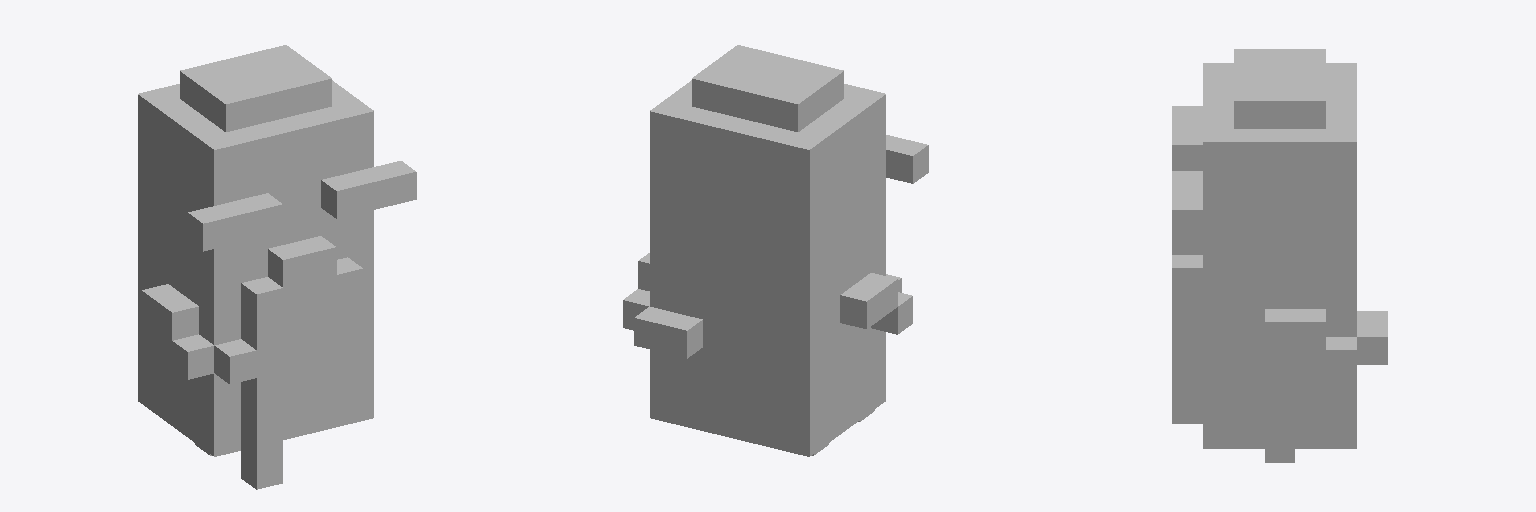
Rendered from chr_old.obj.
3 views of the same model, side by side, from view 1: azimuth 30°, elevation 25°; view 2: azimuth 150°, elevation 25°; view 3: azimuth 270°, elevation 25° (orthographic).
Visible parts, largest first — view 1: chr_old; view 2: chr_old; view 3: chr_old.
Boxes of the visible parts, box(x1,y1,x2,y2) form: chr_old: box(138, 45, 416, 489); chr_old: box(623, 45, 928, 456); chr_old: box(1172, 49, 1387, 462).
Bounding box in the file's own units: 8 × 13 × 7.